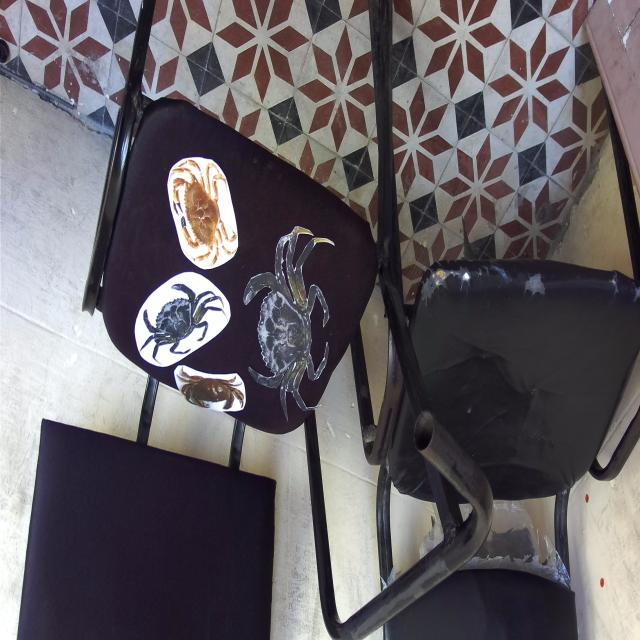European_Green_Crab: (237, 218, 335, 429), (130, 255, 228, 386)
